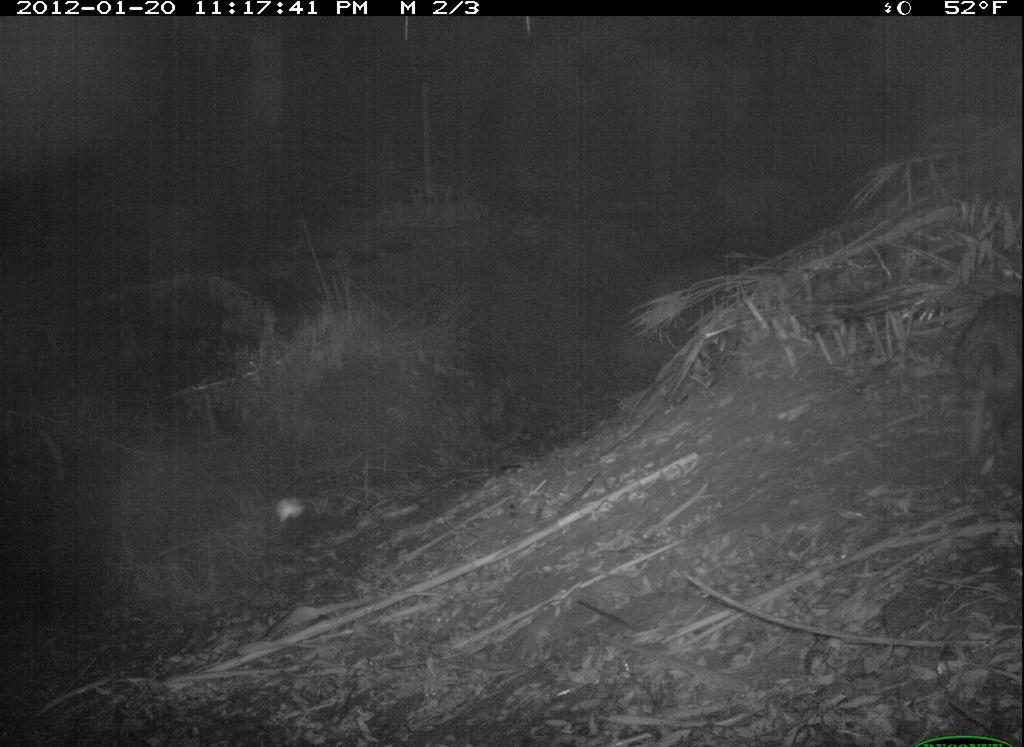opossum: (937, 277, 1023, 491)
